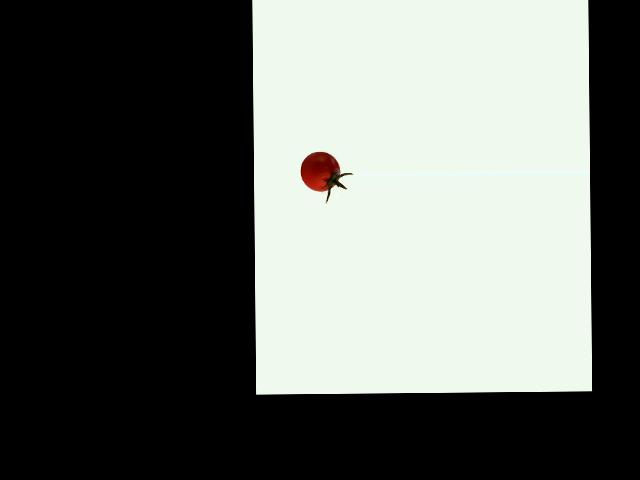tomato: (300, 151, 339, 190)
